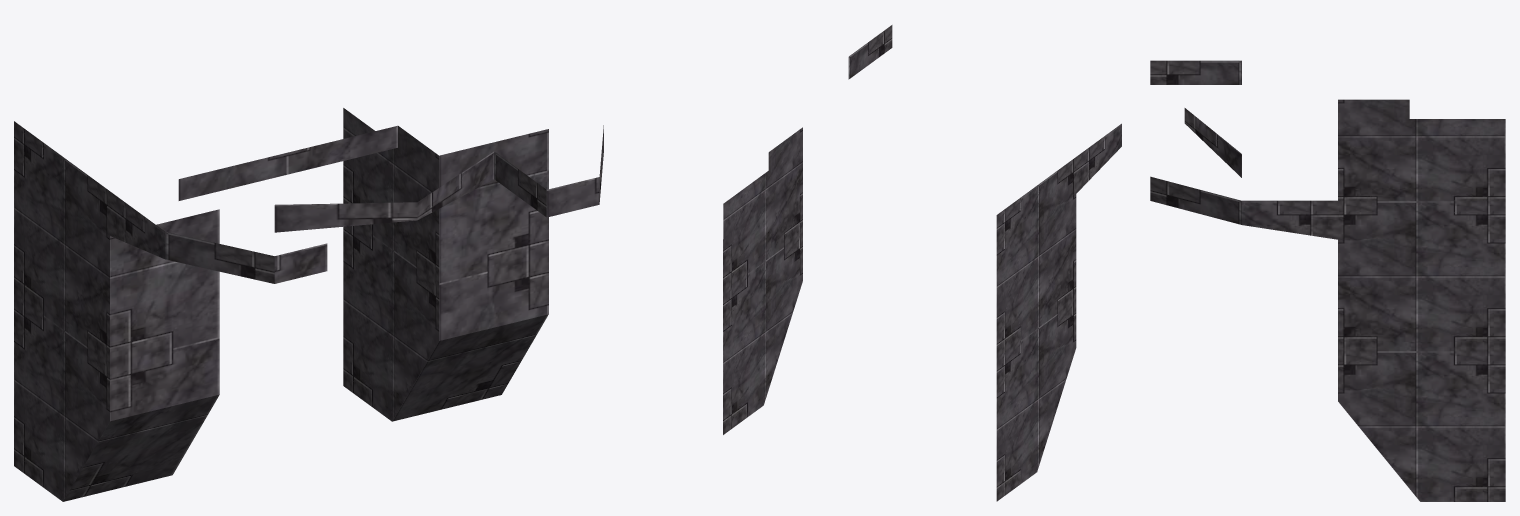
3 views of the same model, side by side, from view 1: azimuth 30°, elevation 25°; view 2: azimuth 150°, elevation 25°; view 3: azimuth 270°, elevation 25° (orthographic). The views are drawn at different scales.
Visible parts, largest first — view 1: model_Object65; view 2: model_Object65; view 3: model_Object65.
Boxes of the visible parts, x1,y1,x2,y2 form: model_Object65: [14, 108, 603, 501]; model_Object65: [723, 25, 1121, 501]; model_Object65: [1150, 60, 1505, 501].
Bounding box in the file's own units: 4 × 3.01 × 3.22.
Materials: 1 (1 with a texture image).
